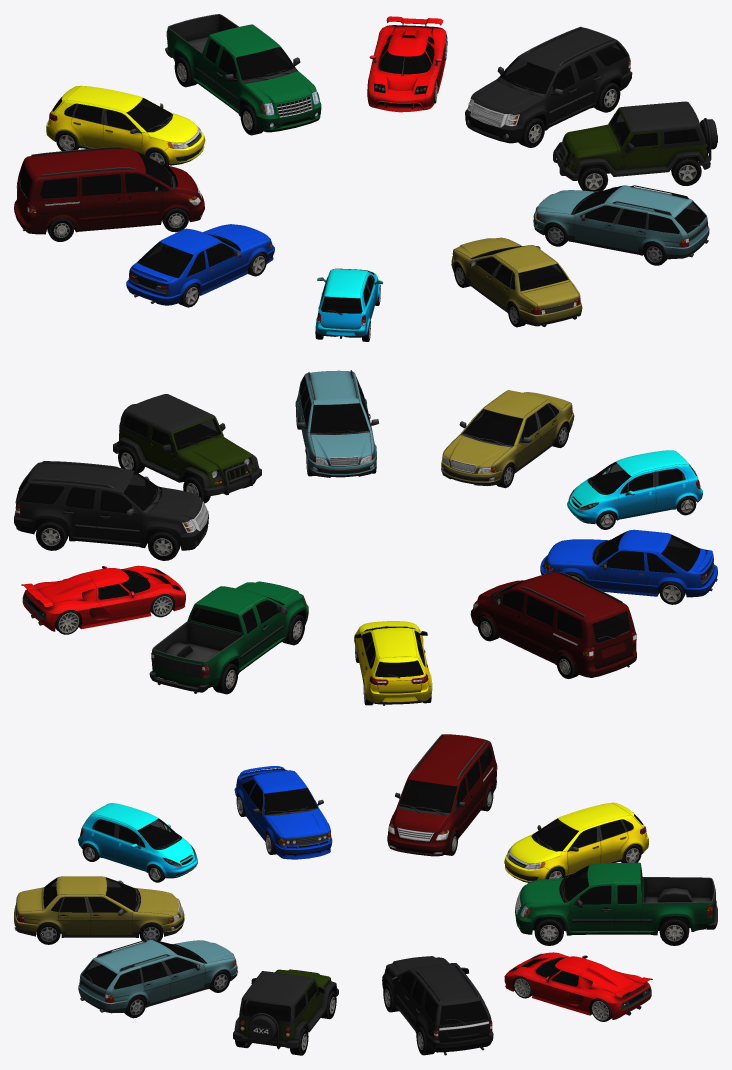
The model's file is prop_cars.glb.
The picture shows the model from 3 angles, top to bottom: view 1: azimuth 30°, elevation 25°; view 2: azimuth 150°, elevation 25°; view 3: azimuth 270°, elevation 25°; orthographic projection. The views are drawn at different scales.
Parts seen in each view (by area): view 1: minivan body, SUV Body, Pickup Body, Wagon Body, Offroad Body, Hatchback Body, Coupe Body, Sedan Body, Sport body, Compact Body, Wheel_G001, Wheel_G (+4 smaller); view 2: SUV Body, minivan body, Pickup Body, Offroad Body, Coupe Body, Sedan Body, Wagon Body, Sport body, Compact Body, Hatchback Body, Wheel_E003, Wheel_E002; view 3: Pickup Body, minivan body, Sedan Body, Wagon Body, SUV Body, Hatchback Body, Coupe Body, Offroad Body, Sport body, Compact Body, Wheel_E001, Wheel_E.
Boxes of the visible parts, x1,y1,x2,y2 form: minivan body: (14,146,204,234); SUV Body: (465,26,632,143); Pickup Body: (165,14,321,132); Wagon Body: (533,185,709,259); Offroad Body: (553,101,717,180); Hatchback Body: (46,85,205,165); Coupe Body: (126,224,274,305); Sedan Body: (451,237,582,326); Sport body: (367,16,446,112); Compact Body: (316,268,382,338); Wheel_G001: (671,157,701,185); Wheel_G: (578,164,608,191); SUV Body: (14,461,208,550); minivan body: (470,572,636,677); Pickup Body: (149,581,308,693); Offroad Body: (113,394,261,496); Coupe Body: (540,529,717,597); Sedan Body: (441,390,574,485); Wagon Body: (295,370,378,477); Sport body: (21,565,185,631); Compact Body: (567,450,702,523); Hatchback Body: (354,621,432,705); Wheel_E003: (35,518,68,550); Wheel_E002: (148,529,180,560); Pickup Body: (515,862,717,935); minivan body: (387,734,497,856); Sedan Body: (14,876,184,937); Wagon Body: (78,940,237,1013); SUV Body: (382,956,493,1055); Hatchback Body: (504,802,648,882); Coupe Body: (234,766,332,859); Offroad Body: (233,969,338,1049); Sport body: (504,952,652,1019); Compact Body: (78,803,197,878); Wheel_E001: (659,916,689,945); Wheel_E: (534,916,563,945).
Size of the model in its own units: 16.87 by 1.76 by 17.97.
Materials: 30 (20 with a texture image).
